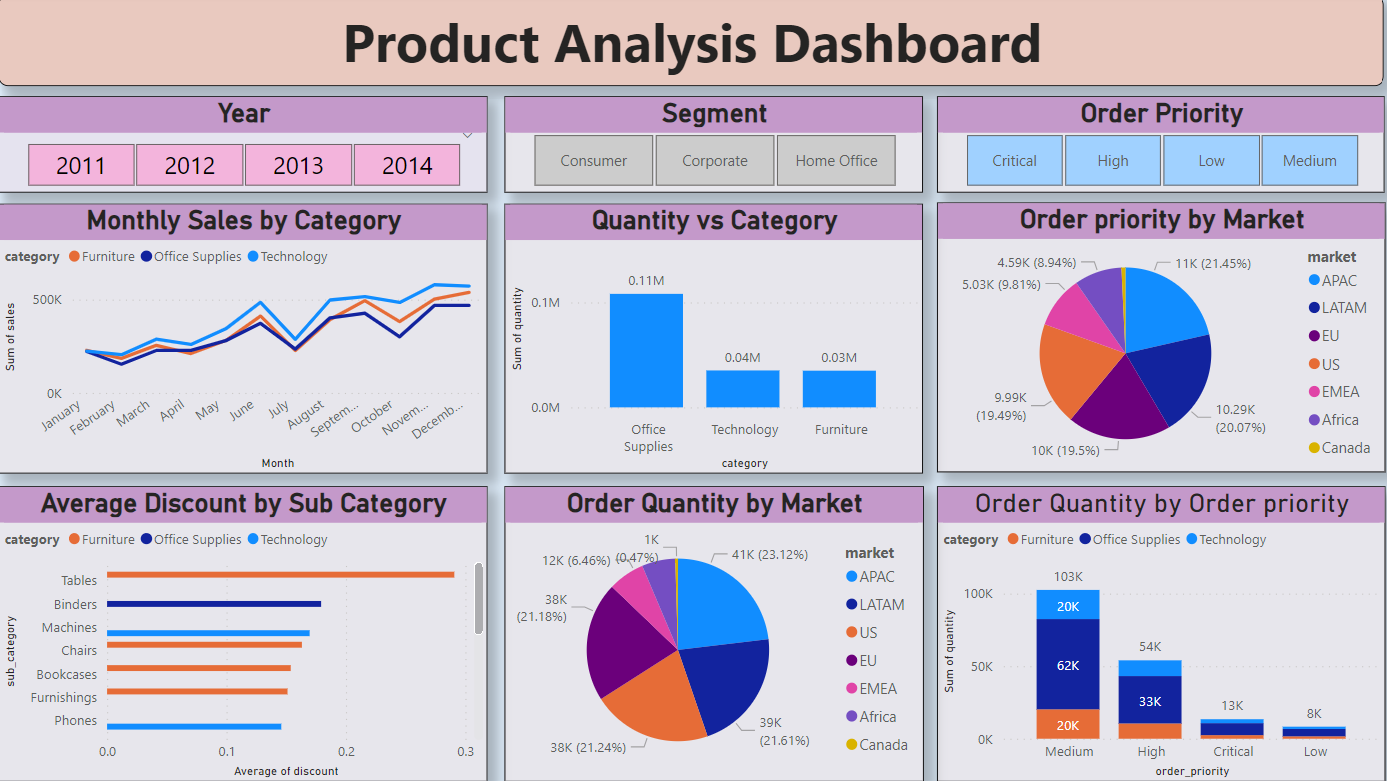

This screenshot's page, from the dashboard's own definition file:
{"tool":"powerbi","page":{"name":"Product Analysis Dashboard","canvas":[1280,720],"ordinal":1},"visuals":[{"type":"textbox","box":[10.2,0,1253.5,82.5],"z":0},{"type":"slicer","title":"Year","fields":{"Values":["SuperStoreOrders.year"]},"box":[10.5,91.8,442.7,87.1],"z":3000},{"type":"slicer","title":"Segment","fields":{"Values":["SuperStoreOrders.segment"]},"box":[468.3,91.8,378.8,87.1],"z":10000},{"type":"slicer","title":"Order Priority","fields":{"Values":["SuperStoreOrders.order_priority"]},"box":[858.7,91.8,405.5,87.1],"z":11001},{"type":"lineChart","title":"Monthly Sales by Category","fields":{"Y":["Sum(SuperStoreOrders.sales)"],"Category":["SuperStoreOrders.order_date.Variation.Date Hierarchy.Month"],"Series":["SuperStoreOrders.category"]},"box":[10.5,188.2,442.7,244],"z":11002},{"type":"clusteredBarChart","title":"Average Discount by Sub Category","fields":{"Category":["SuperStoreOrders.sub_category"],"Y":["Avg(SuperStoreOrders.discount)"],"Series":["SuperStoreOrders.category"]},"box":[10.5,443.9,442.7,267.2],"z":11003},{"type":"columnChart","title":"Quantity vs Category","fields":{"Category":["SuperStoreOrders.category"],"Y":["Sum(SuperStoreOrders.quantity)"]},"box":[468.3,188.2,378.8,244],"z":11004},{"type":"pieChart","title":"Order Quantity by Market","fields":{"Y":["Sum(SuperStoreOrders.quantity)"],"Category":["SuperStoreOrders.market"]},"box":[468,444,379,267],"z":11005},{"type":"pieChart","title":"Order priority by Market","fields":{"Category":["SuperStoreOrders.market"],"Y":["CountNonNull(SuperStoreOrders.order_priority)"]},"box":[859,188,406,244],"z":11006},{"type":"columnChart","title":"Order Quantity by Order priority","fields":{"Y":["Sum(SuperStoreOrders.quantity)"],"Category":["SuperStoreOrders.order_priority"],"Series":["SuperStoreOrders.category"]},"box":[859,444,406,267],"z":11007}]}

Visuals, with their boxes in screenshot pixels (x1, y1, x2, y2), scaled from the page's 1280x720 canvas onto the 1387x781 screenshot:
textbox: crop(11, 0, 1369, 89)
"Year" slicer: crop(11, 100, 491, 194)
"Segment" slicer: crop(507, 100, 918, 194)
"Order Priority" slicer: crop(930, 100, 1370, 194)
"Monthly Sales by Category" lineChart: crop(11, 204, 491, 469)
"Average Discount by Sub Category" clusteredBarChart: crop(11, 482, 491, 771)
"Quantity vs Category" columnChart: crop(507, 204, 918, 469)
"Order Quantity by Market" pieChart: crop(507, 482, 918, 771)
"Order priority by Market" pieChart: crop(931, 204, 1371, 469)
"Order Quantity by Order priority" columnChart: crop(931, 482, 1371, 771)
